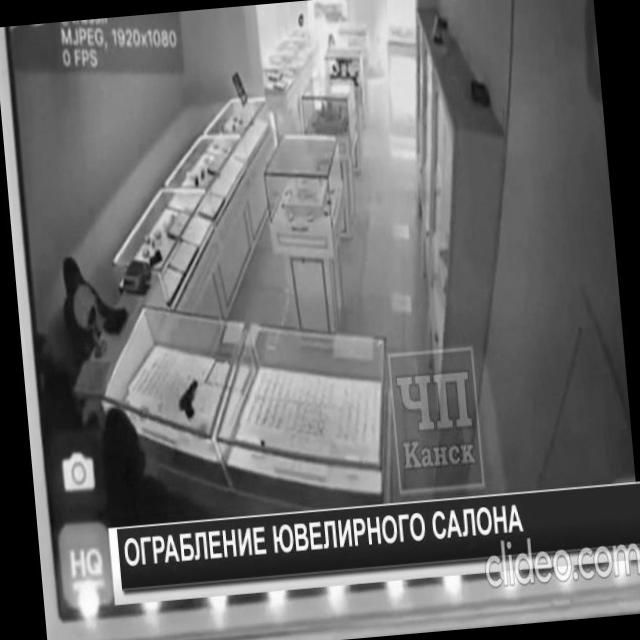gun: (175, 374, 202, 423)
